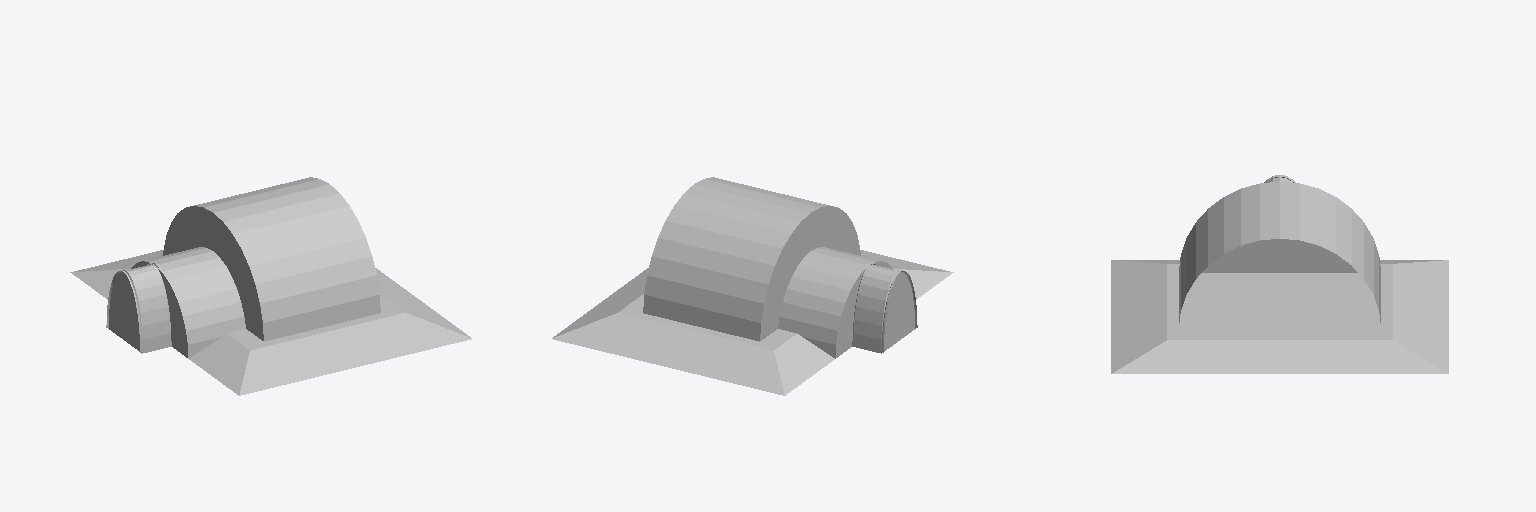
Rendered from hangar.obj.
3 renders of one model, left to right at view 1: azimuth 30°, elevation 25°; view 2: azimuth 150°, elevation 25°; view 3: azimuth 270°, elevation 25°, orthographic.
Parts seen in each view (by area): view 1: Cube_Cube.001; view 2: Cube_Cube.001; view 3: Cube_Cube.001.
Part boxes in pixels (left/top/right/bottom): Cube_Cube.001: left=70, top=177, right=471, bottom=395; Cube_Cube.001: left=552, top=177, right=953, bottom=395; Cube_Cube.001: left=1111, top=175, right=1448, bottom=373.
Size of the model in its own units: 9.07 by 3.5 by 10.